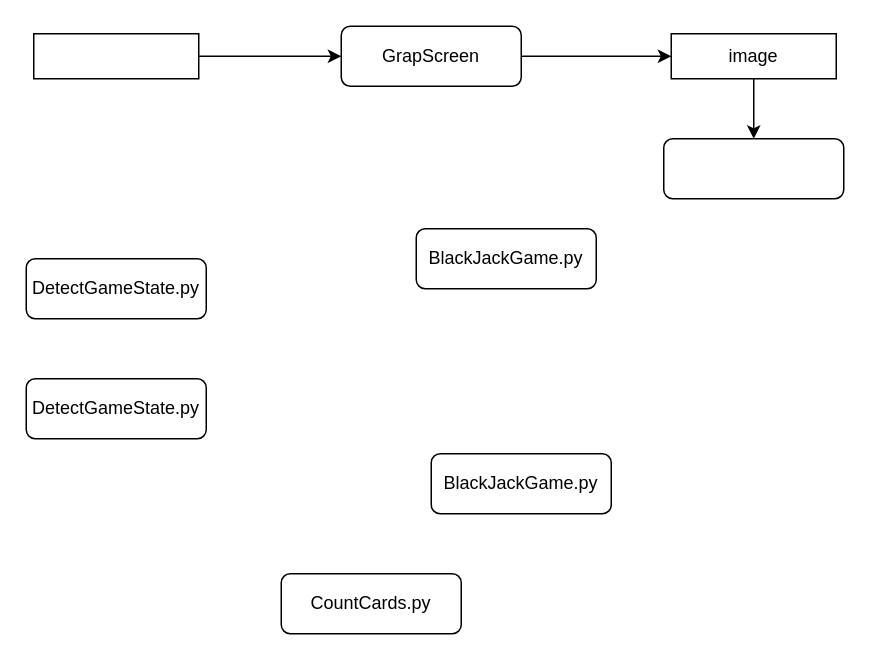
Some shapes in this 870 by 660 pixel diagram are drawn without their labels. The centre of each missing label's shape, as x and y in pixels:
DetectCards.py: the point at 753,168
monitor screen: the point at 115,55
